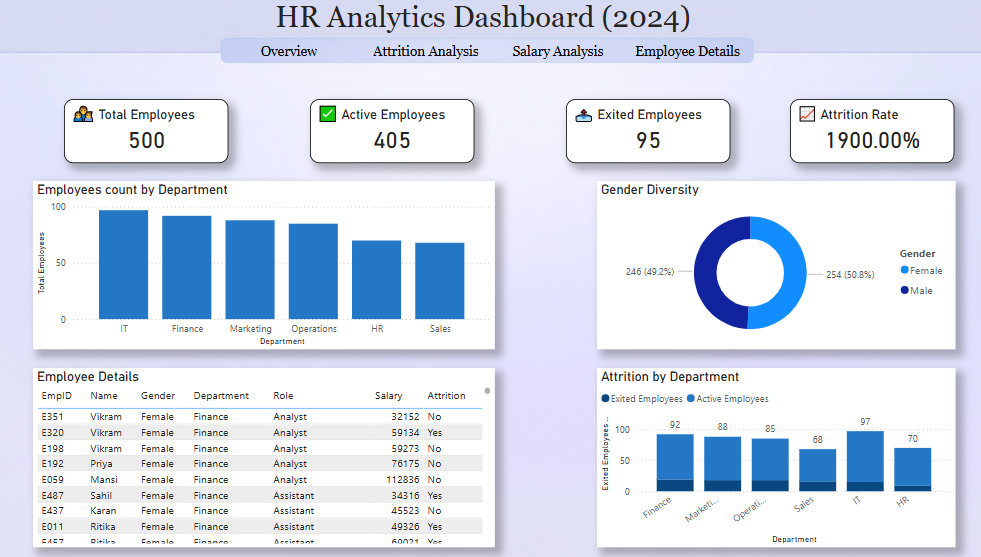

Layout of this report page (visuals, bound fields, positions):
{"tool":"powerbi","page":{"name":"Overview","canvas":[1280,720],"ordinal":0},"visuals":[{"type":"card","title":"👨👦👦 Total Employees","fields":{"Values":["Employees.Total Employees"]},"box":[89.2,131.3,210.4,81.6],"z":0},{"type":"card","title":"✅ Active Employees","fields":{"Values":["Employees.Active Employees"]},"box":[404.1,131.3,210.4,81.6],"z":1000},{"type":"card","title":"📤 Exited Employees","fields":{"Values":["Employees.Exited Employees"]},"box":[730.5,131.3,210.4,81.6],"z":2000},{"type":"card","title":"📈 Attrition Rate","fields":{"Values":["Employees.Attrition Rate (%)"]},"box":[1017.4,131.3,210.4,81.6],"z":3000},{"type":"clusteredColumnChart","title":"Employees count by Department","fields":{"Category":["Employees.Department"],"Y":["Employees.Total Employees"]},"box":[49.7,235.9,590.3,215.5],"z":4000},{"type":"donutChart","title":"Gender Diversity","fields":{"Y":["Employees.Total Employees"],"Category":["Employees.Gender"]},"box":[770,235.9,457.7,215.5],"z":5000},{"type":"columnChart","title":"Attrition by Department","fields":{"Category":["Employees.Department"],"Y":["Employees.Exited Employees","Employees.Active Employees"]},"box":[770,475.5,457.7,229.5],"z":6000},{"type":"tableEx","title":"Employee Details","fields":{"Values":["Employees.EmpID","Employees.Name","Employees.Gender","Employees.Department","Employees.Role","Employees.Salary","Employees.Attrition"]},"box":[49.7,475.5,590.3,229.5],"z":7000},{"type":"textbox","box":[0,0,1249.4,53.5],"z":8000},{"type":"shape","box":[464.1,53.5,175.9,34.4],"z":9000},{"type":"shape","box":[288.1,53.5,175.9,34.4],"z":10000},{"type":"shape","box":[800.6,53.5,169.6,34.4],"z":11000},{"type":"shape","box":[640,53.5,160.6,34.4],"z":12000}]}

Visuals, with their boxes in screenshot pixels (x1, y1, x2, y2), scaled from the page's 1280x720 canvas onto the 981x557 screenshot:
"👨👦👦 Total Employees" card: box=[68, 102, 230, 165]
"✅ Active Employees" card: box=[310, 102, 471, 165]
"📤 Exited Employees" card: box=[560, 102, 721, 165]
"📈 Attrition Rate" card: box=[780, 102, 941, 165]
"Employees count by Department" clusteredColumnChart: box=[38, 182, 490, 349]
"Gender Diversity" donutChart: box=[590, 182, 941, 349]
"Attrition by Department" columnChart: box=[590, 368, 941, 545]
"Employee Details" tableEx: box=[38, 368, 490, 545]
textbox: box=[0, 0, 958, 41]
shape: box=[356, 41, 490, 68]
shape: box=[221, 41, 356, 68]
shape: box=[614, 41, 744, 68]
shape: box=[490, 41, 614, 68]
